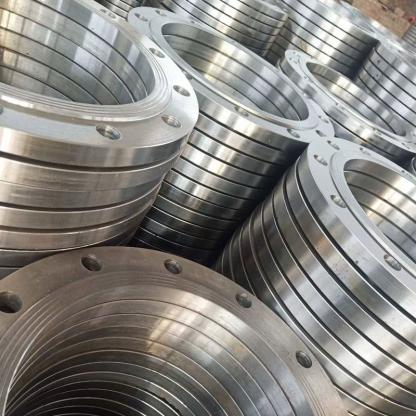FOD: (0, 0, 199, 172), (296, 129, 416, 316)
